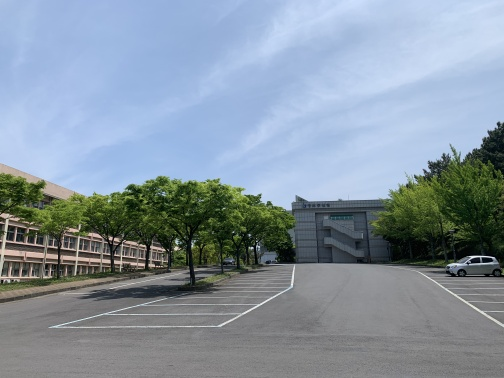College Of Education: (4, 162, 178, 295)
